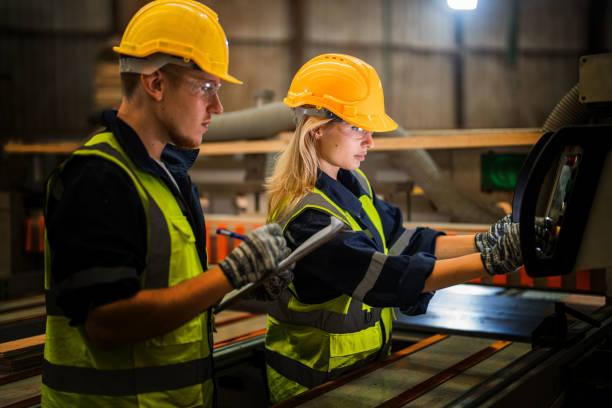capacete: (113, 0, 246, 86), (284, 48, 400, 130)
luva: (224, 222, 293, 295), (472, 221, 555, 268)
pessoa: (38, 0, 229, 402), (274, 47, 436, 373)
uniforme seguranca: (46, 135, 217, 408), (273, 168, 391, 374)
